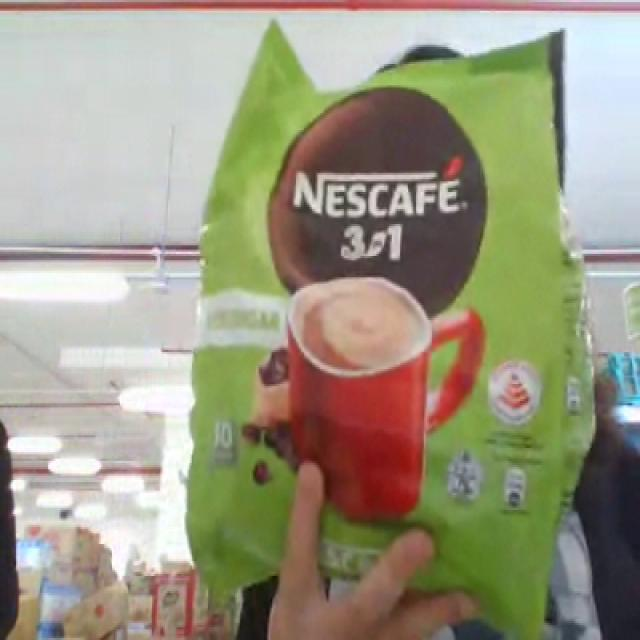object_name: (215, 53, 551, 593)
